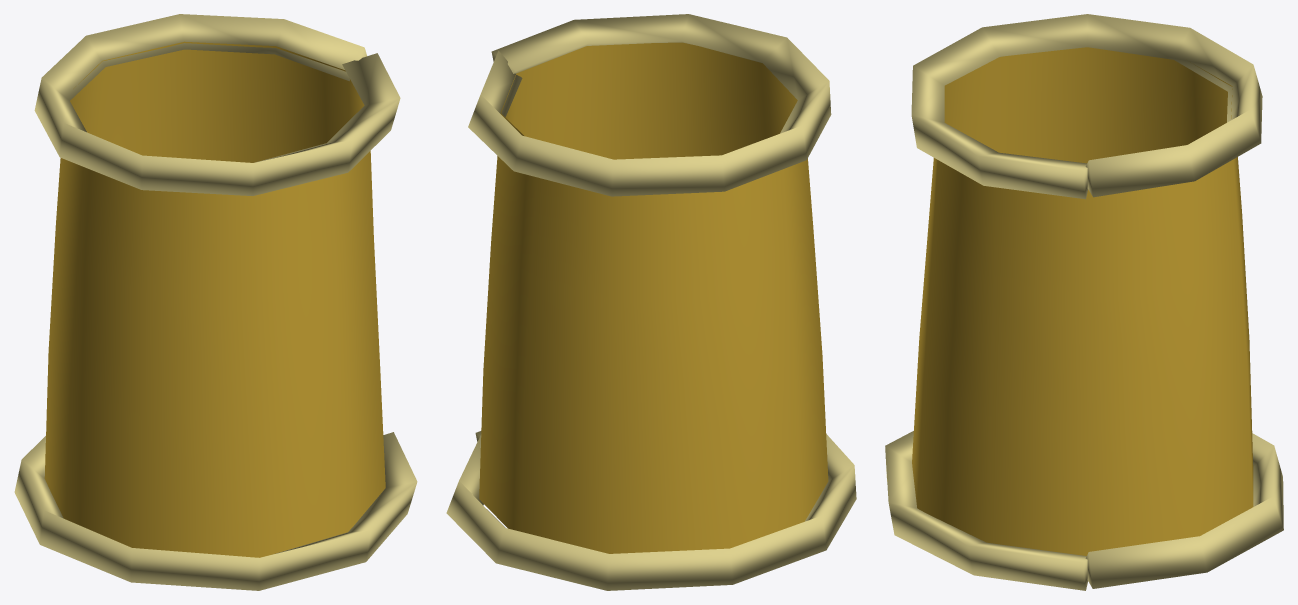
The model's file is gold_armor_bracer.L.glb.
3 views of the same model, side by side, from view 1: azimuth 30°, elevation 25°; view 2: azimuth 150°, elevation 25°; view 3: azimuth 270°, elevation 25° (orthographic).
Visible parts, largest first — view 1: gold_armor_bracer.L; view 2: gold_armor_bracer.L; view 3: gold_armor_bracer.L.
Boxes of the visible parts, x1,y1,x2,y2 form: gold_armor_bracer.L: (14,14,417,590); gold_armor_bracer.L: (446,14,856,590); gold_armor_bracer.L: (885,14,1283,590).
Size of the model in its own units: 0.1504 by 0.1719 by 0.1471.
